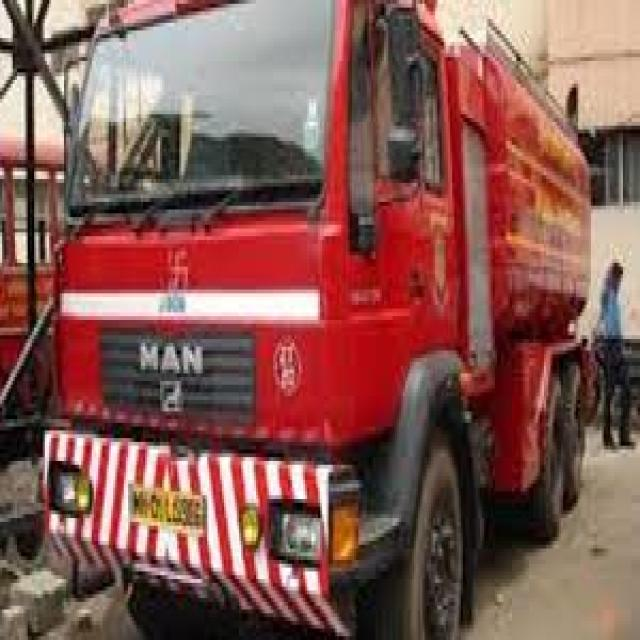Fire_brigade: (44, 0, 602, 640)
